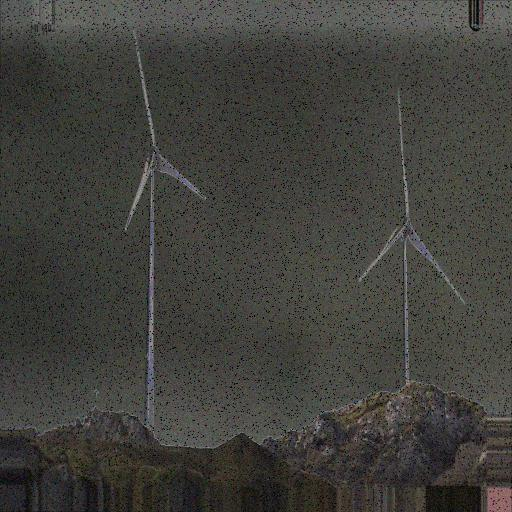wind turbine: (124, 27, 208, 443), (358, 86, 469, 389)
